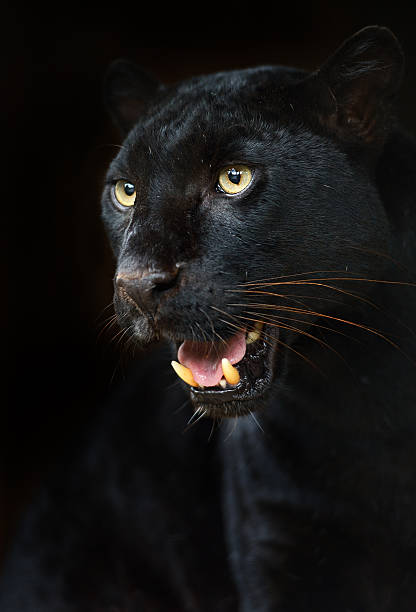panther: (63, 15, 416, 461)
